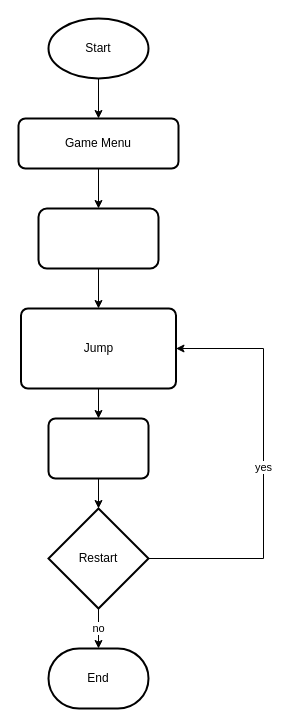
Image size: 289x726. Some labels were removed from this diagram. Each missing label, with the centre of its shape:
"Die" belongs at pixel 98 448.
"init" belongs at pixel 98 238.
